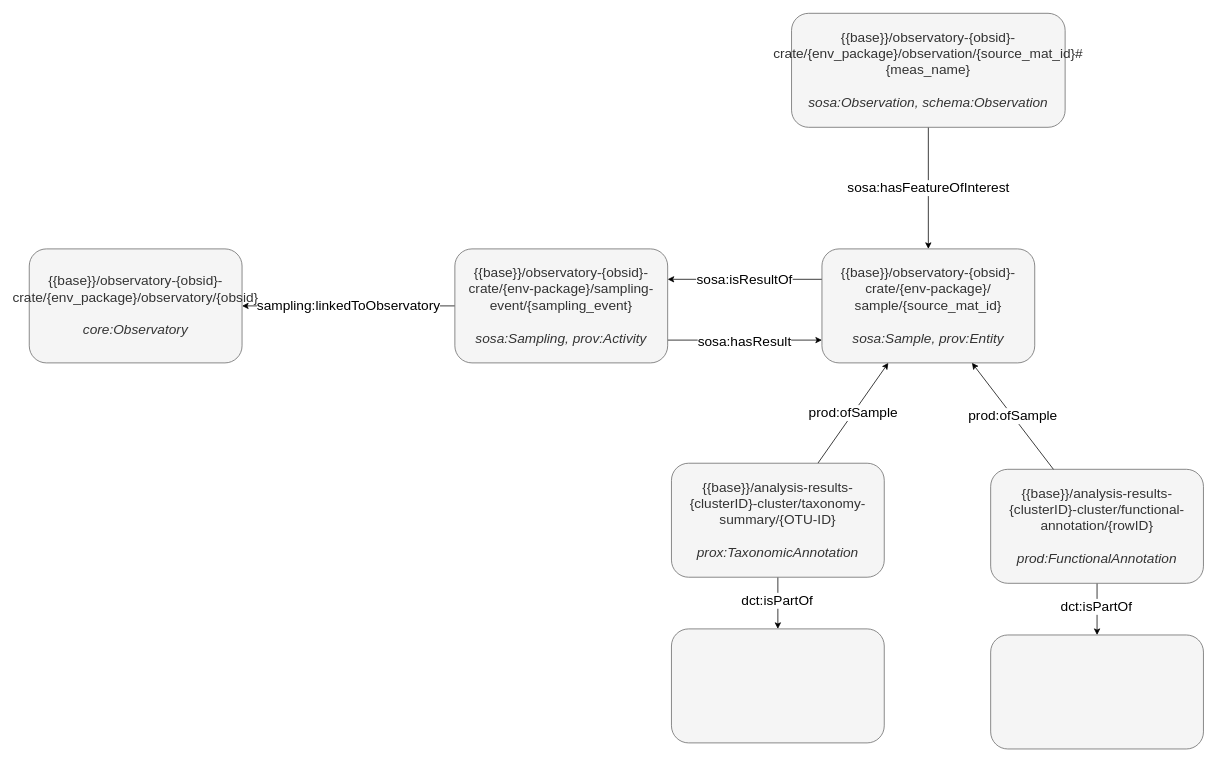
Some shapes in this 1217 by 762 pixel diagram are drawn without their labels. The shapes that lost their labels are listed below. From the top down, each one's centre as x and y in pixels, then its label:
At pixel 777 685: "{{base}}/analysis-results-{clusterID}-cluster/taxonomy-summary/".
At pixel 1096 691: "{{base}}/analysis-results-{clusterID}-cluster/functional-annotation/".
